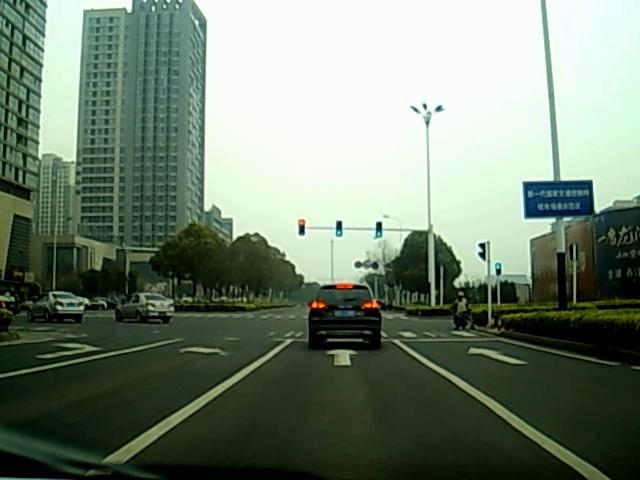Traffic_Light_go: (335, 221, 343, 237), (375, 222, 382, 239)
Traffic_Light_stop: (298, 218, 306, 239)
